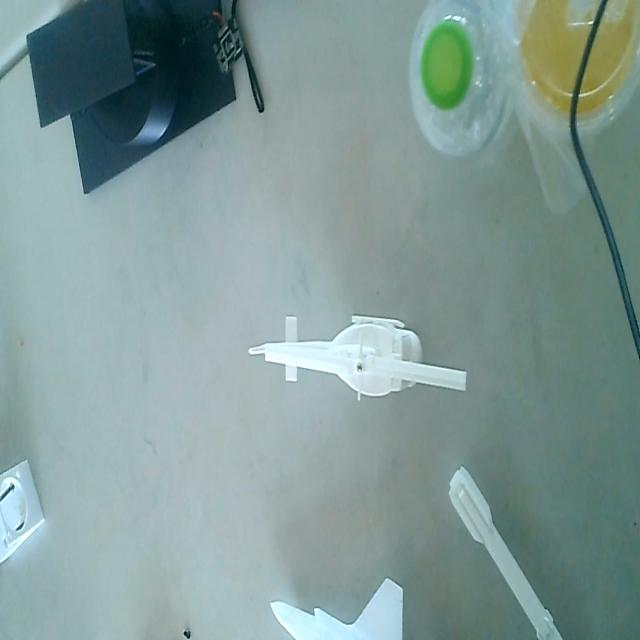Helicopter: (242, 307, 471, 419)
Jet: (268, 566, 407, 640)
Rocket: (446, 461, 570, 640)
